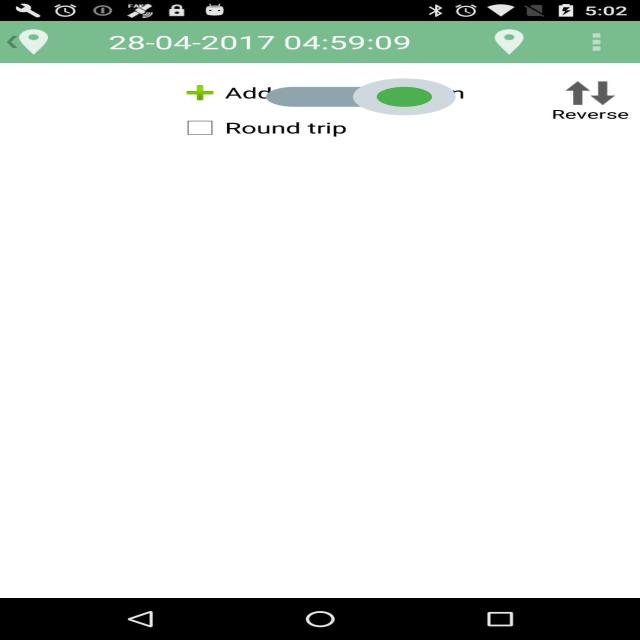social proof: (266, 63, 456, 131)
